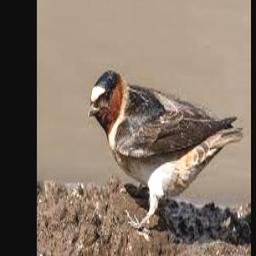Swallow: (88, 70, 242, 227)
